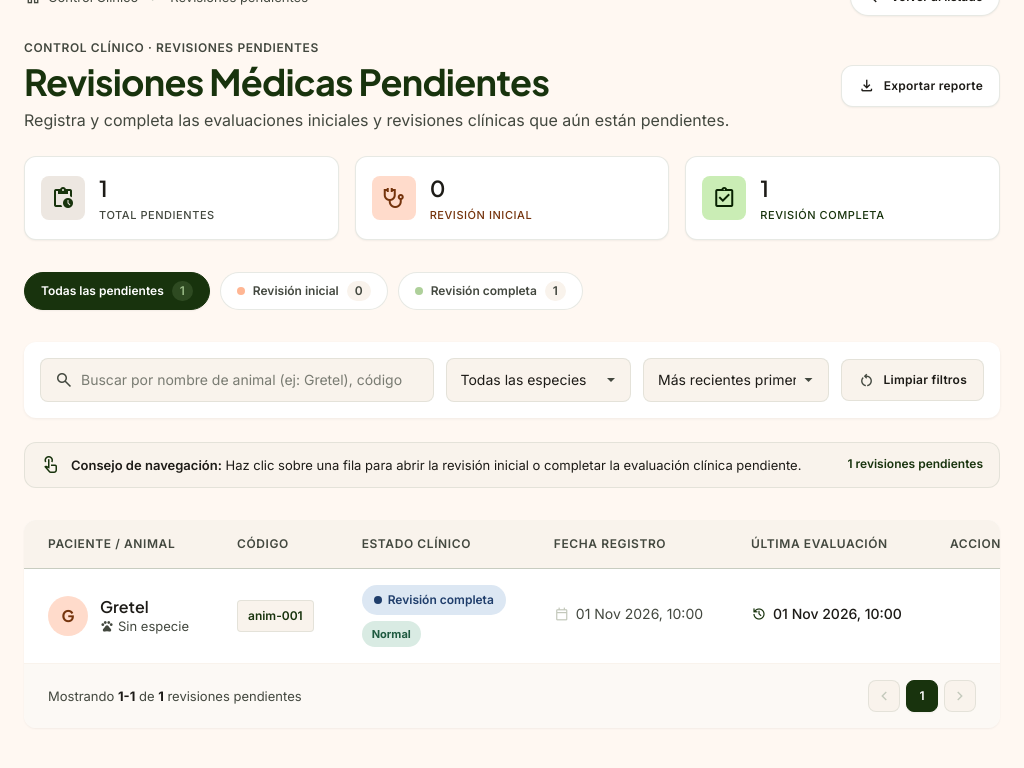
Test: RegistroMedicoPage › cierra el modal de revisión con Escape, backdrop y Cerrar ficha
This screenshot has width=1024, height=768.
(page scrolled)
Click the button with aria-label "Ver ficha médica de Gretel anim-001" at (68, 616), box [24,568,1023,663]
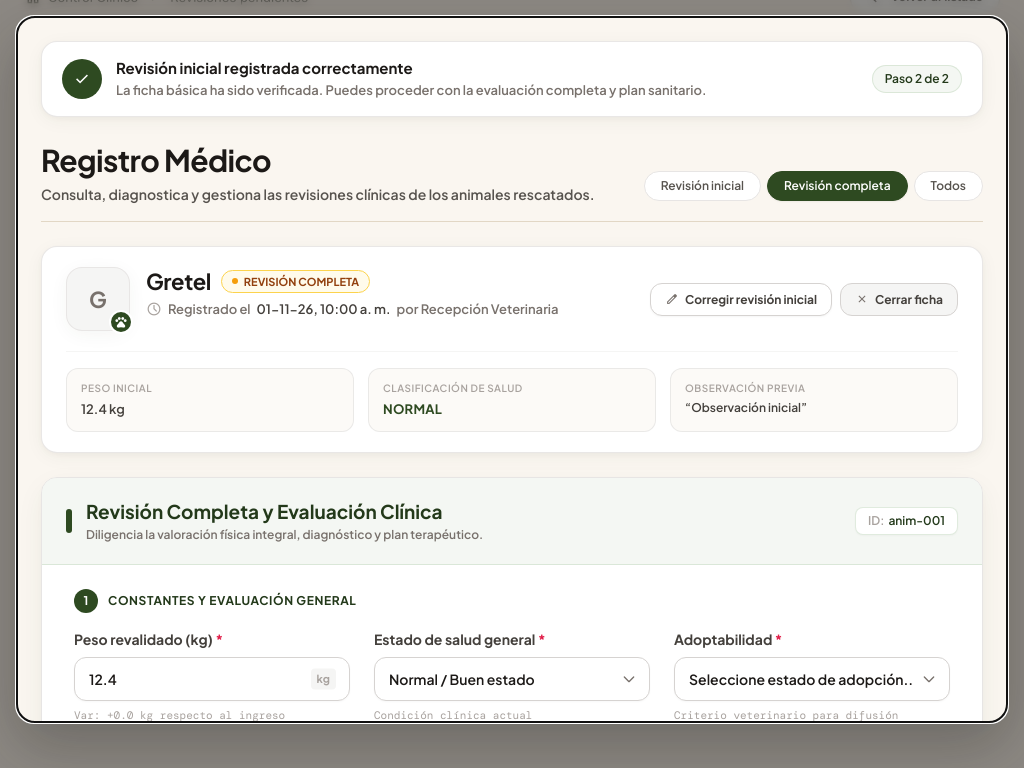
expect the dialog is shown: met
Press Escape
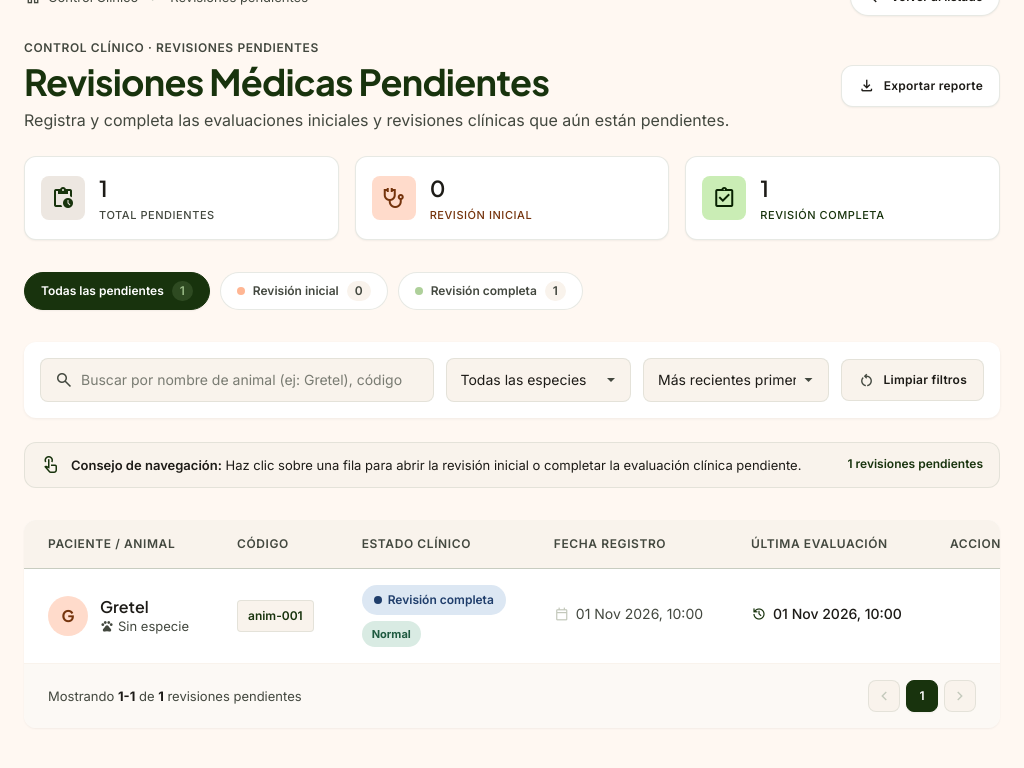
expect the dialog is gone: met
Click the button with aria-label "Ver ficha médica de Gretel anim-001" at (68, 616), box [24,568,1023,663]
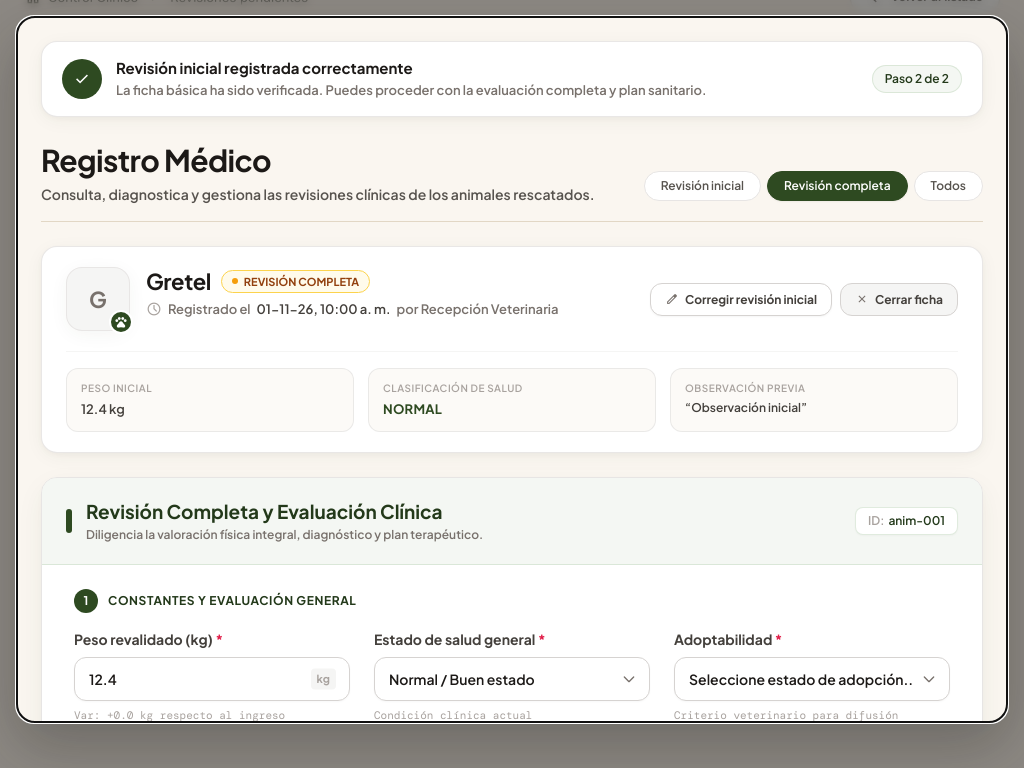
expect the dialog is shown: met
Click the element with class "ventana-fondo" at (512, 384), box [0,0,1023,767]
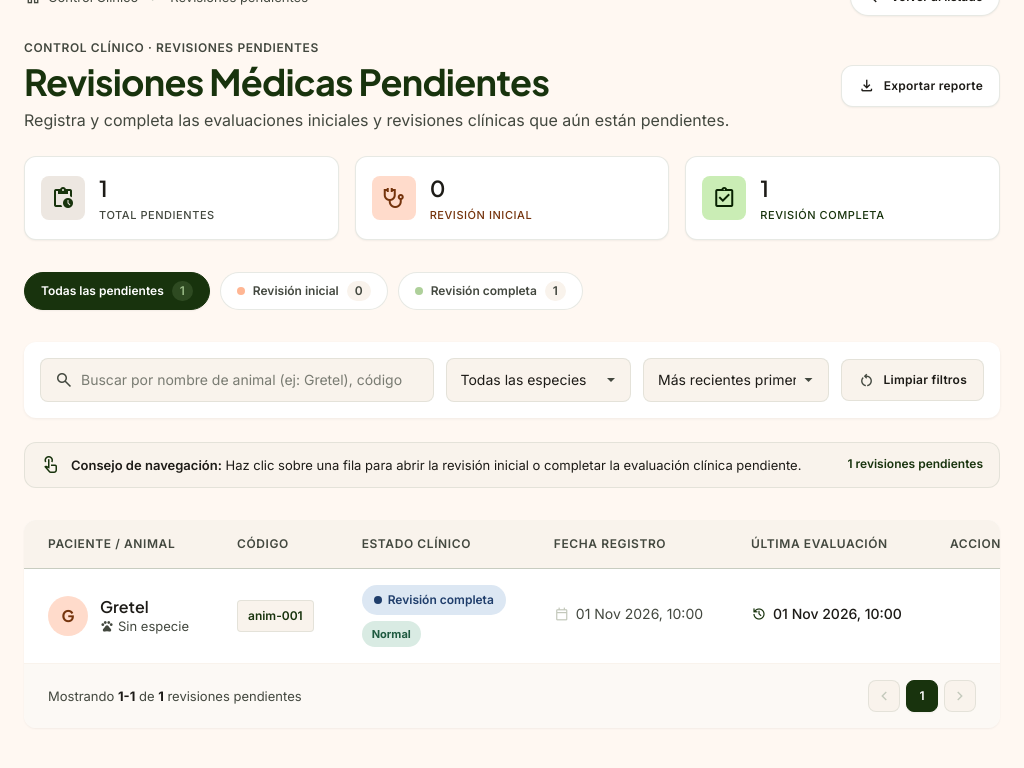
expect the dialog is gone: met
Click the button with aria-label "Ver ficha médica de Gretel anim-001" at (68, 616), box [24,568,1023,663]
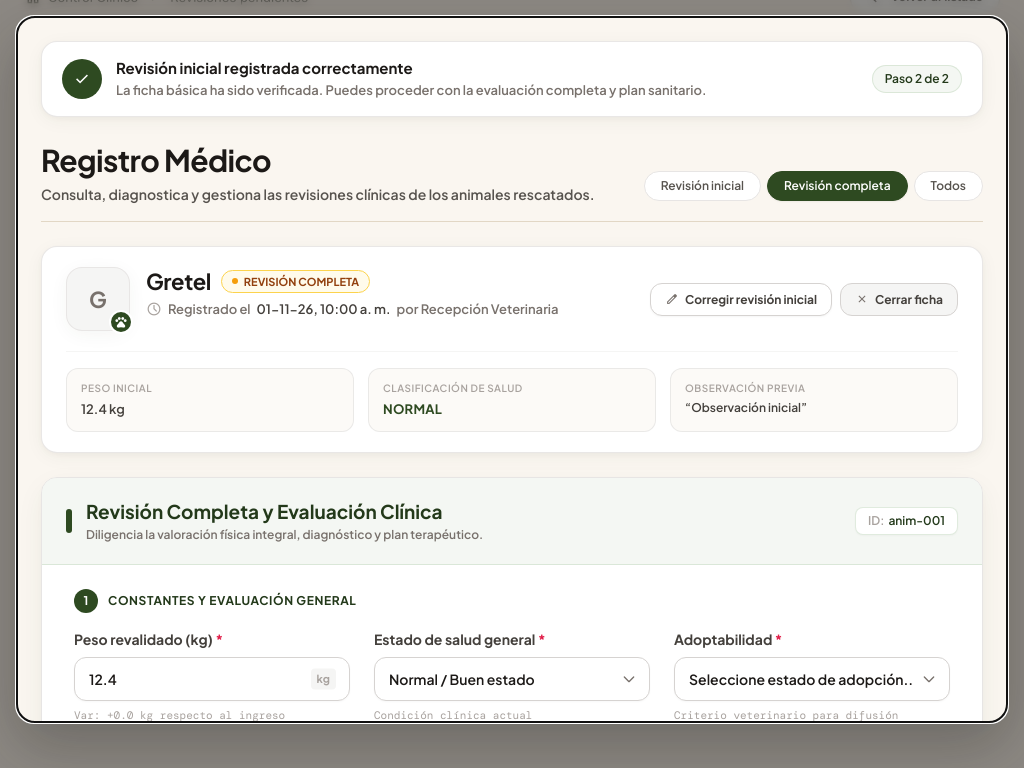
Click the button "Cerrar ficha" at (899, 299), box [840,283,958,316]
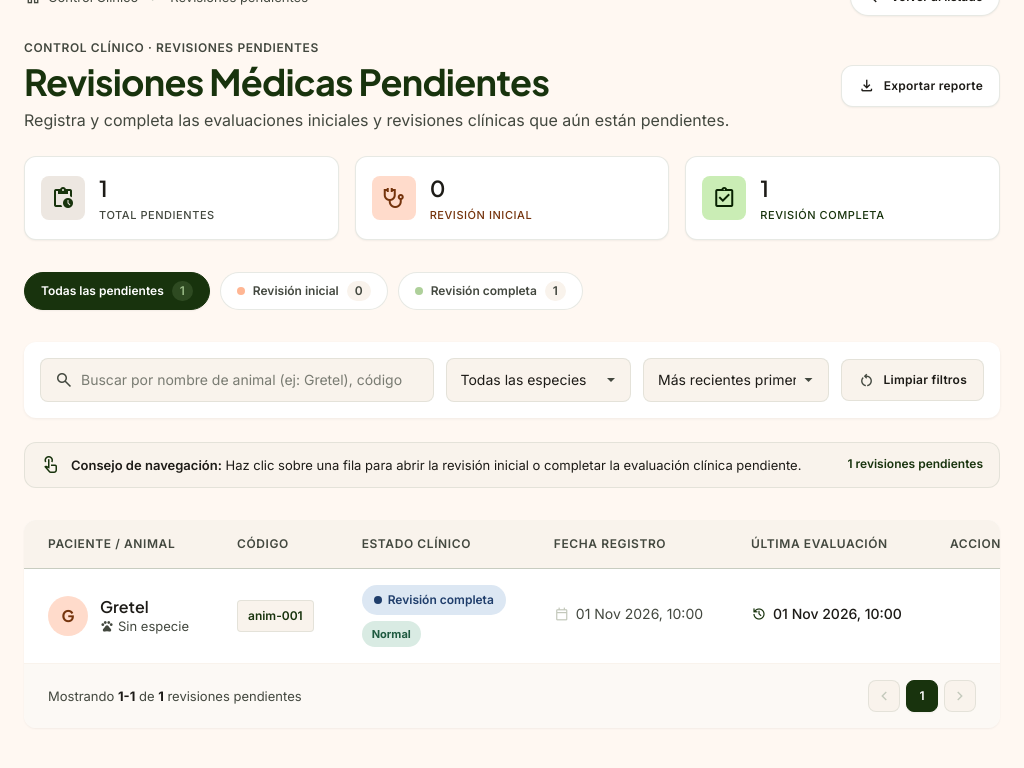
expect the dialog is gone: met
